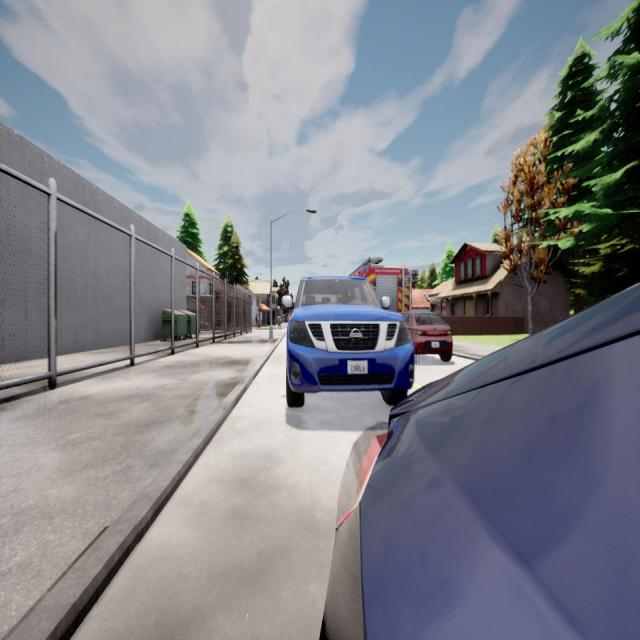Pedestrian: (277, 314, 281, 329), (255, 312, 258, 328)
Vehicle: (318, 285, 640, 640), (286, 277, 414, 406), (350, 256, 413, 315), (402, 310, 452, 362)
